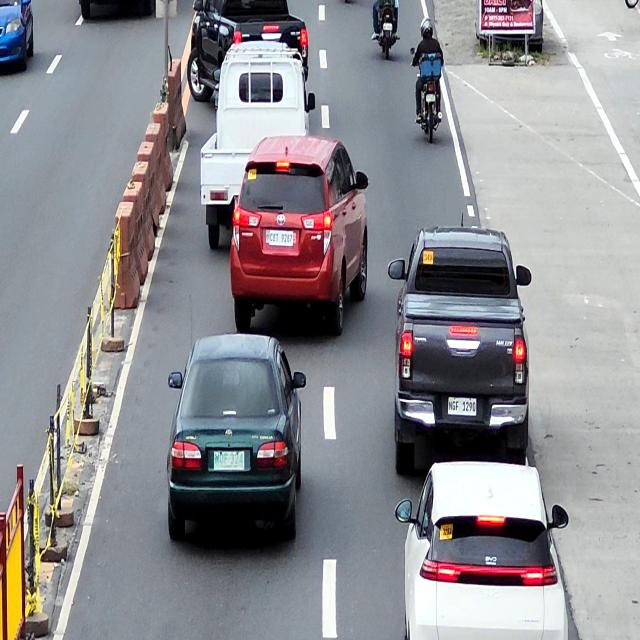Car: (388, 227, 531, 477), (395, 462, 569, 640), (166, 332, 307, 543), (229, 135, 369, 338), (198, 40, 317, 248), (187, 0, 309, 105), (0, 0, 35, 75)
License-Plate: (213, 451, 246, 472), (448, 397, 477, 416), (269, 230, 293, 246), (383, 22, 393, 30), (426, 94, 436, 102)
Motorcycle: (411, 44, 442, 144), (374, 0, 400, 62)
